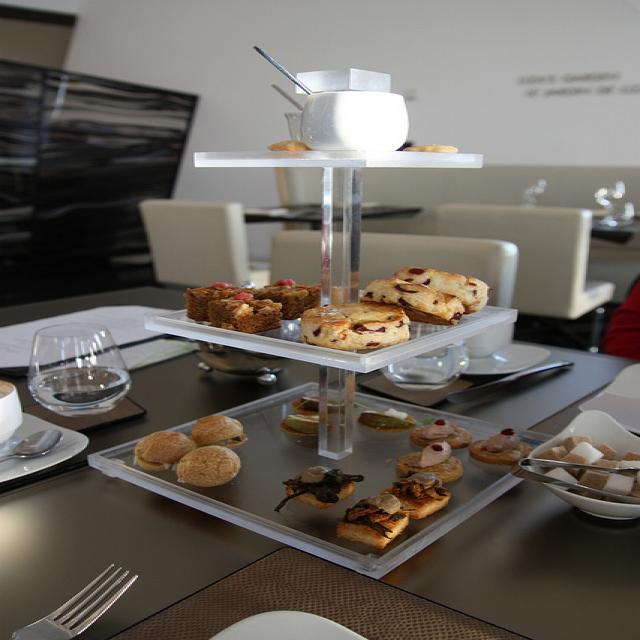chair: (437, 203, 615, 319), (268, 230, 517, 309), (140, 201, 265, 287)
dining table: (6, 275, 640, 631)
